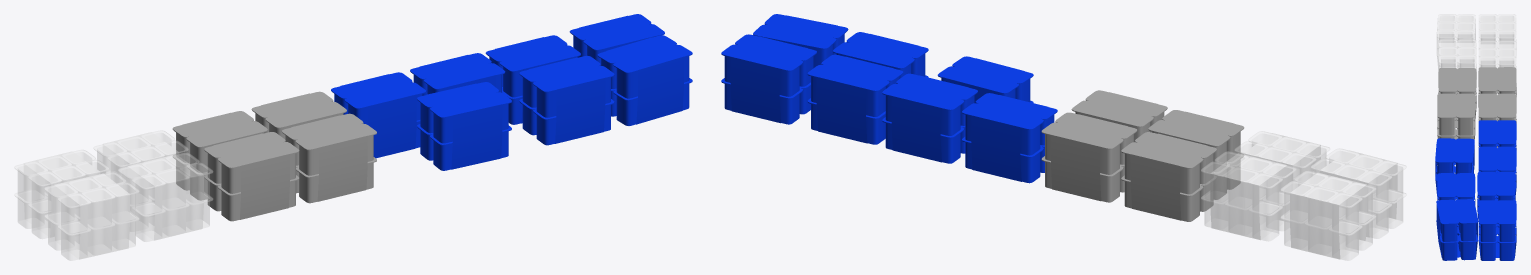
The model's file is YoghurtPack_rk7lsf_Pack01.fbx.
3 views of the same model, side by side, from view 1: azimuth 30°, elevation 25°; view 2: azimuth 150°, elevation 25°; view 3: azimuth 270°, elevation 25° (orthographic). The views are drawn at different scales.
Visible parts, largest first — view 1: YoghurtPack_rk7lsf_Pack01; view 2: YoghurtPack_rk7lsf_Pack01; view 3: YoghurtPack_rk7lsf_Pack01.
Boxes of the visible parts, x1,y1,x2,y2 form: YoghurtPack_rk7lsf_Pack01: (14, 14, 692, 260); YoghurtPack_rk7lsf_Pack01: (721, 14, 1406, 260); YoghurtPack_rk7lsf_Pack01: (1435, 14, 1516, 260).
Bounding box in the file's own units: 164 × 13.84 × 26.92.
